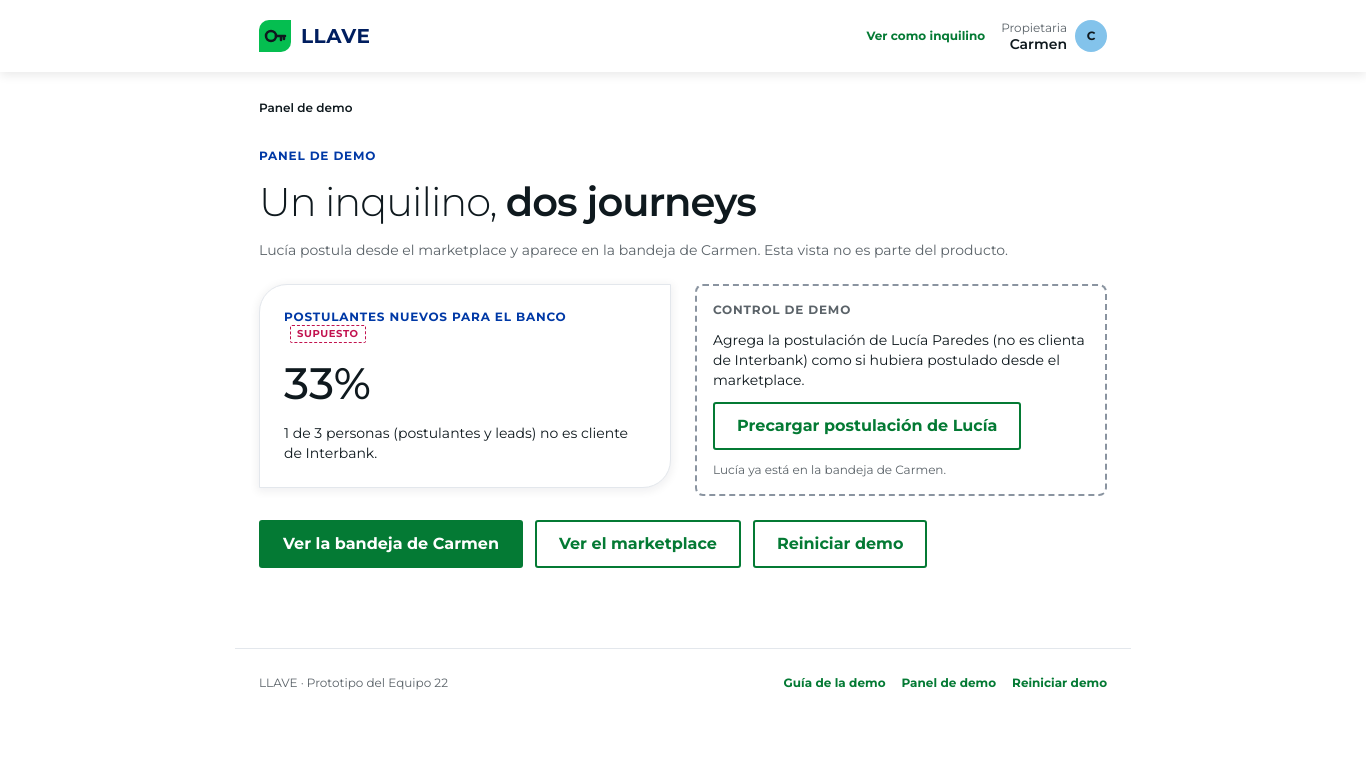
Test: conexión de journeys › reiniciar la demo vuelve todo al estado inicial
Expected: the text with test id "bancarizacion-pct" reads "33%", [284,356,371,410]
What coordinates should you click on to do the following:
click the button with test id "footer-reiniciar-button"
I would click on:
 (1060, 683)
Its box is [1012,673,1107,693].
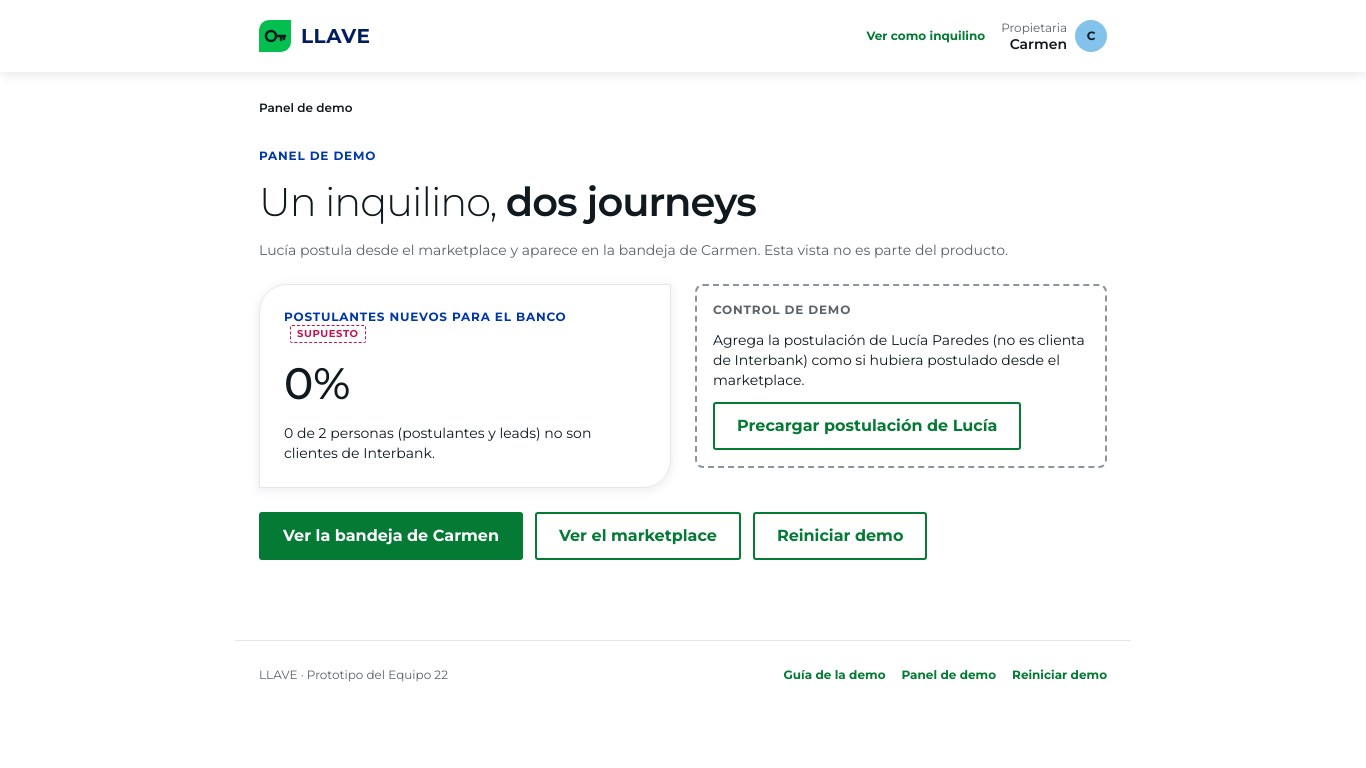
Expected: the text with test id "bancarizacion-pct" reads "0%", [284,356,350,410]
